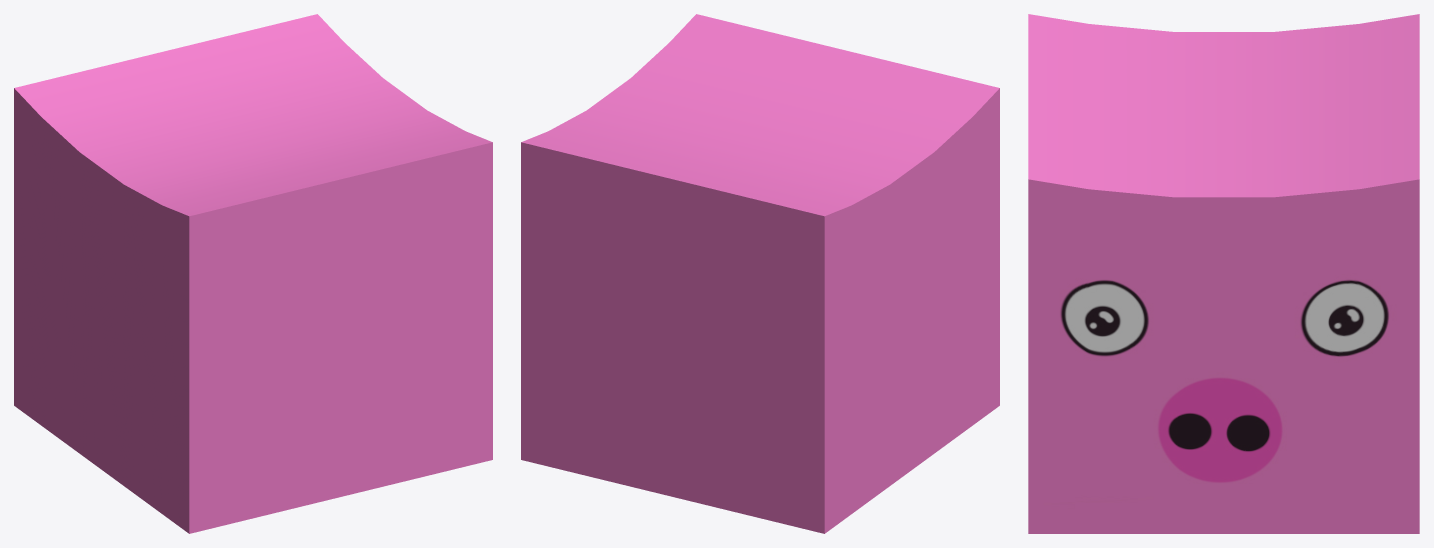
The model's file is pig.fbx.
3 renders of one model, left to right at view 1: azimuth 30°, elevation 25°; view 2: azimuth 150°, elevation 25°; view 3: azimuth 270°, elevation 25°, orthographic. The views are drawn at different scales.
Parts seen in each view (by area): view 1: Cube; view 2: Cube; view 3: Cube.
Boxes of the visible parts, x1,y1,x2,y2 form: Cube: [14, 14, 492, 533]; Cube: [521, 14, 999, 533]; Cube: [1028, 14, 1419, 533].
Bounding box in the file's own units: 200 × 200 × 200.
